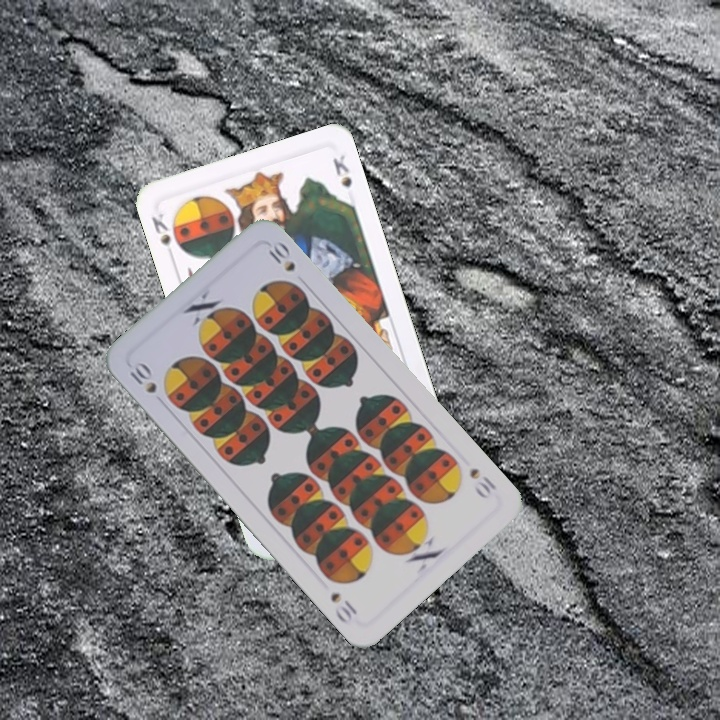S10: (125, 358, 160, 396), (465, 464, 500, 502)
SK: (147, 208, 178, 263)
